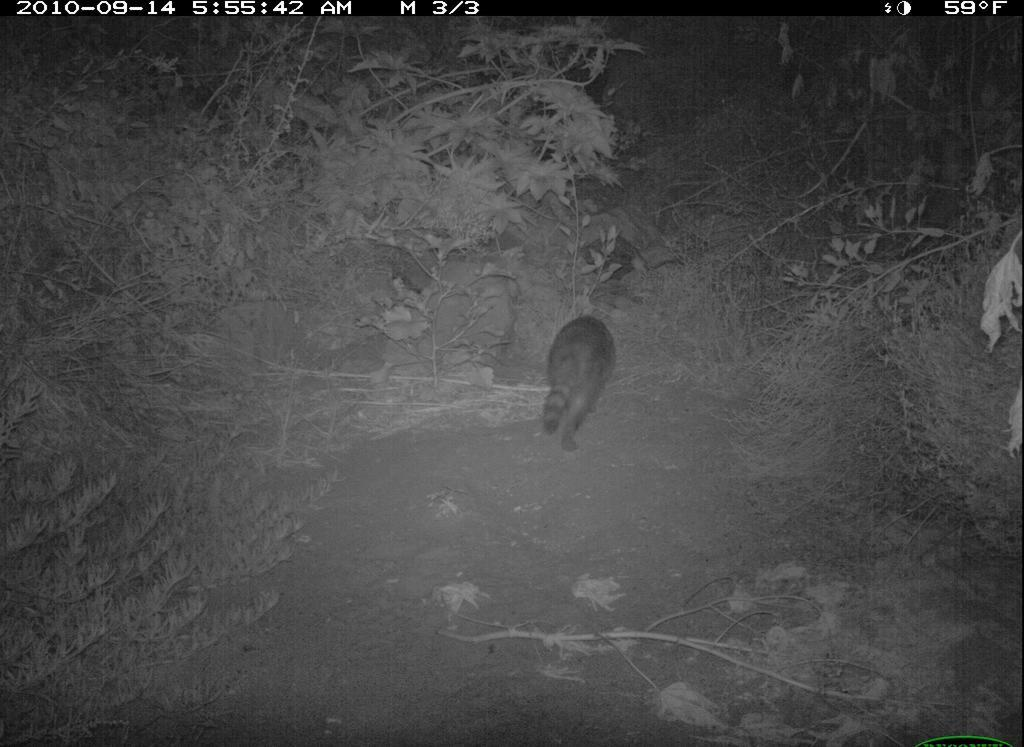raccoon: (537, 310, 625, 457)
